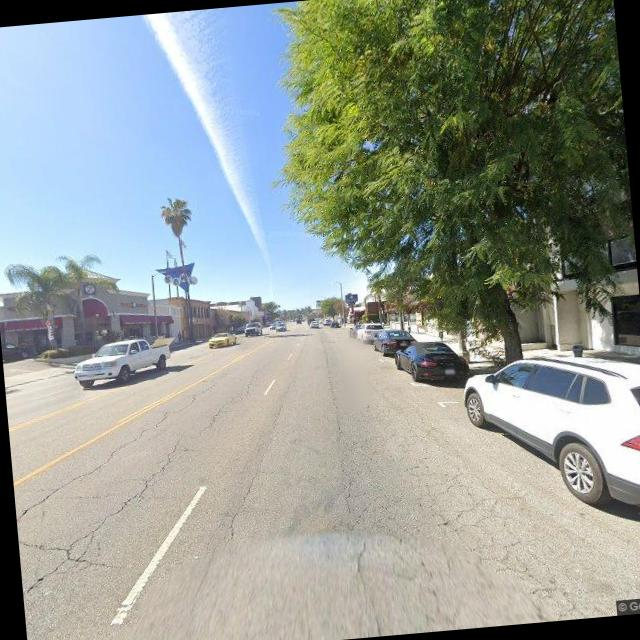crack: (324, 401, 552, 636)
pothole: (15, 373, 270, 583), (7, 392, 225, 627)
